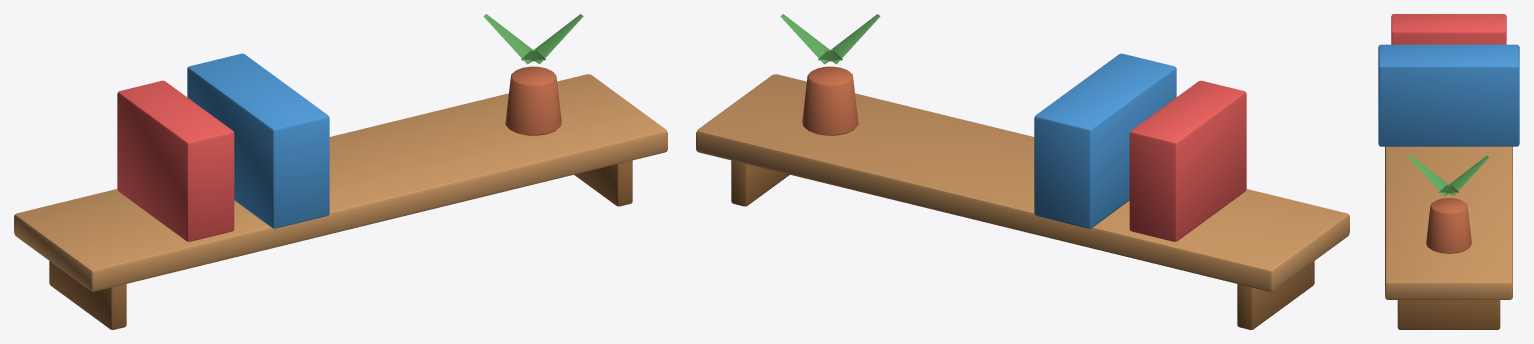
Rendered from env_shelf_v2.glb.
The picture shows the model from 3 angles, left to right: view 1: azimuth 30°, elevation 25°; view 2: azimuth 150°, elevation 25°; view 3: azimuth 270°, elevation 25°; orthographic projection. The views are drawn at different scales.
Parts seen in each view (by area): view 1: ShelfV2; view 2: ShelfV2; view 3: ShelfV2.
Boxes of the visible parts, bbox=[...] form: ShelfV2: bbox=[14, 14, 667, 329]; ShelfV2: bbox=[696, 14, 1349, 329]; ShelfV2: bbox=[1378, 14, 1519, 329].
Size of the model in its own units: 4.2 by 1.21 by 1.1.
